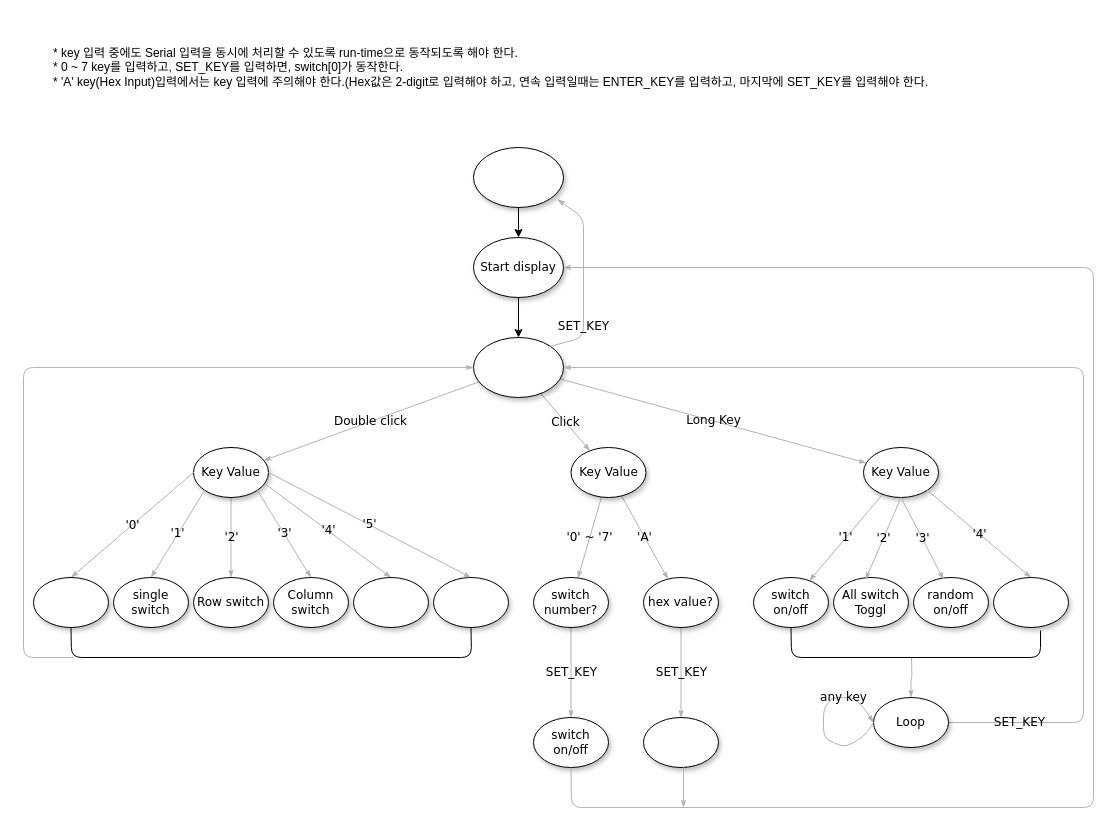
The diagram is 1118 pixels wide and 832 high, and some of its shapes have lost their labels. The centre of each missing label's shape, as x and y in pixels:
10-switch shift: point (1031, 603)
ALL SWITCH OFF: point (519, 178)
All switch toggle: point (71, 603)
Pattern Reset: point (471, 603)
Random switch: point (391, 603)
send command: point (681, 743)
Waiting Keypad Input: point (519, 368)
